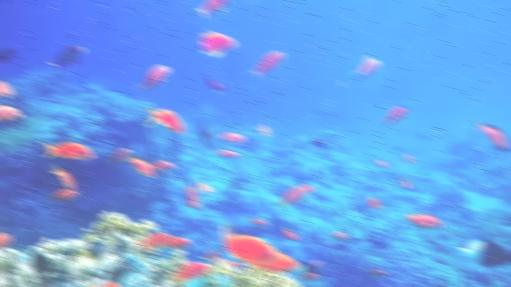Fish: (221, 223, 278, 264), (132, 65, 169, 98), (472, 118, 507, 151), (144, 106, 183, 133), (49, 46, 84, 74), (199, 31, 236, 57), (249, 51, 284, 78), (42, 142, 92, 159), (186, 181, 214, 209), (173, 262, 210, 283), (351, 56, 380, 79), (136, 232, 171, 251), (383, 105, 408, 130), (127, 154, 154, 177), (196, 0, 228, 18), (406, 214, 443, 229), (52, 165, 73, 188), (287, 184, 314, 199), (185, 181, 198, 208), (205, 78, 226, 94), (0, 106, 21, 120), (220, 132, 246, 143), (110, 148, 129, 162), (0, 80, 13, 97), (216, 149, 240, 158), (229, 178, 246, 190), (283, 229, 299, 240), (257, 124, 270, 136), (367, 198, 381, 209), (331, 231, 348, 240), (250, 219, 268, 226), (277, 202, 288, 208), (106, 282, 119, 286)
